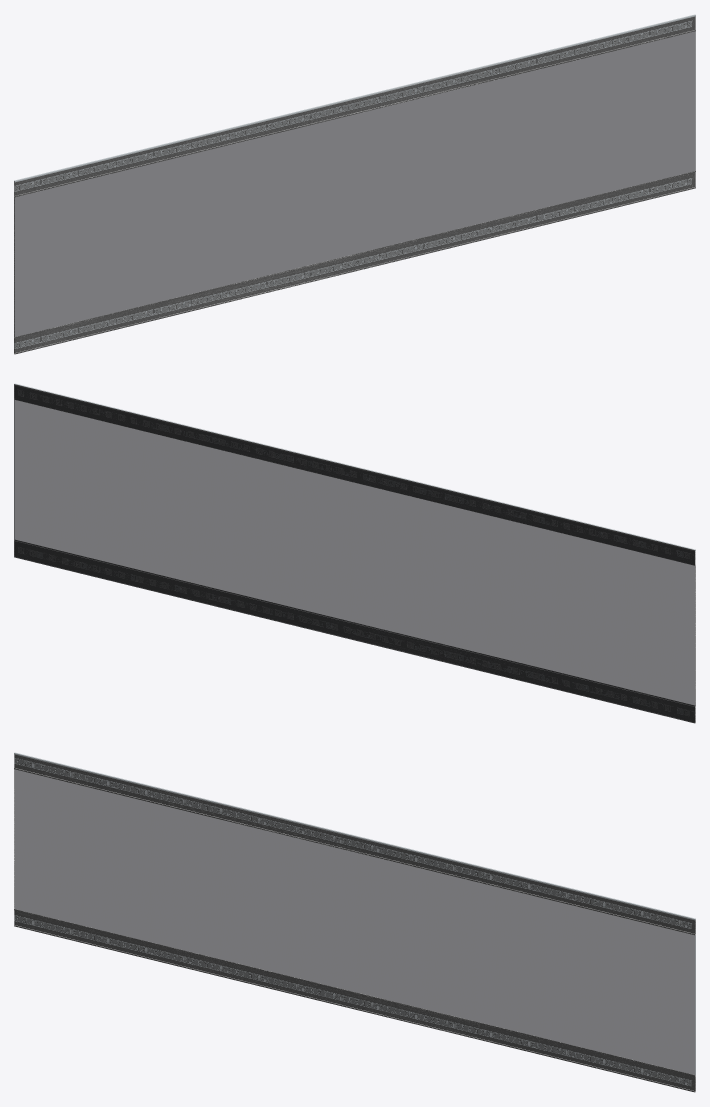
The model's file is CaptionHUDBackground-centered.glb.
3 renders of one model, top to bottom at view 1: azimuth 30°, elevation 25°; view 2: azimuth 150°, elevation 25°; view 3: azimuth 330°, elevation 25°, orthographic.
Visible parts, largest first — view 1: Didascalia Piccola; view 2: Didascalia Piccola; view 3: Didascalia Piccola.
Part boxes in pixels (x1=…): Didascalia Piccola: x1=14, y1=14, x2=695, y2=354; Didascalia Piccola: x1=14, y1=383, x2=695, y2=723; Didascalia Piccola: x1=14, y1=752, x2=695, y2=1092.
Size of the model in its own units: 0.6254 by 0.152 by 0.00136.
5 materials, 1 textured.
